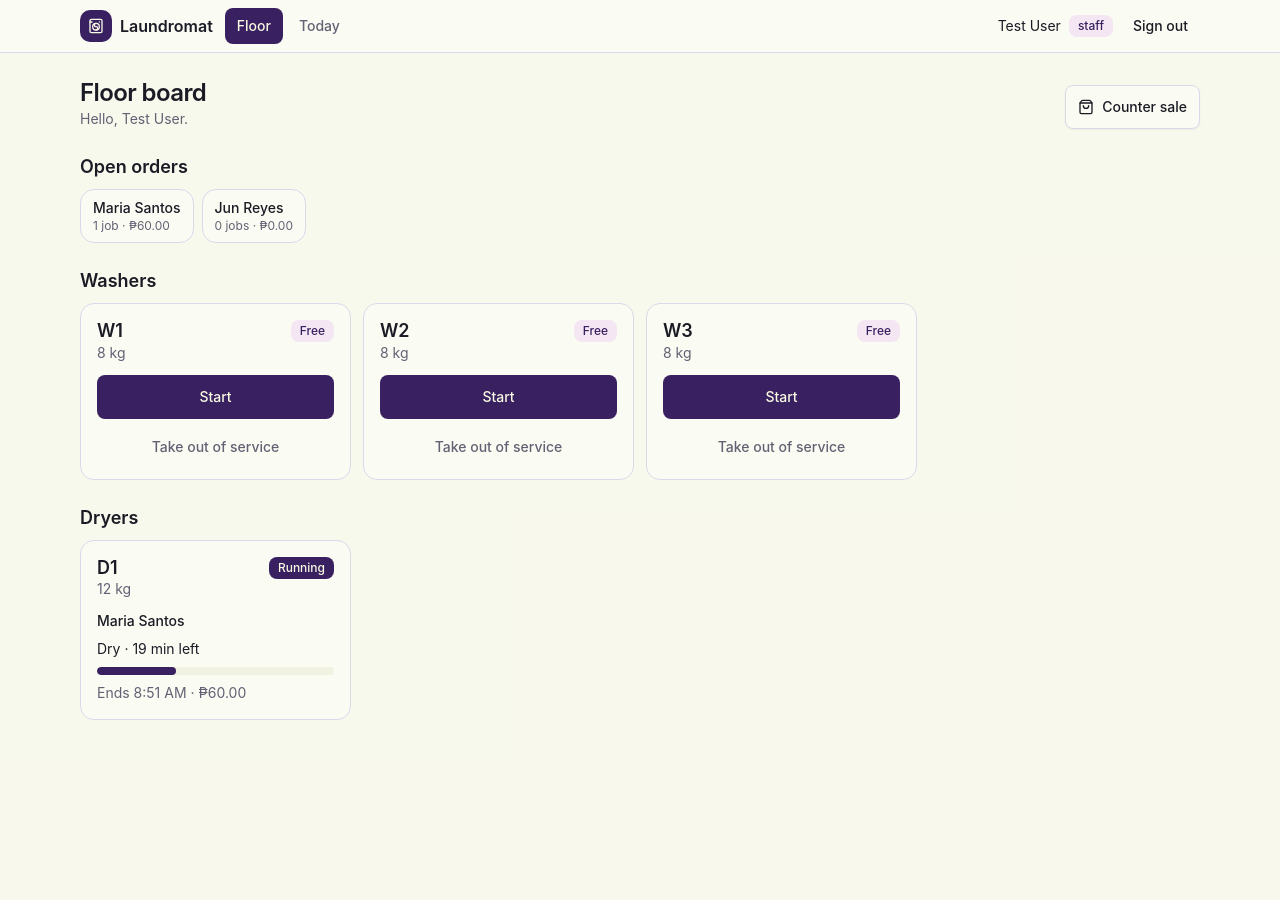
Test: Orders › offers no dryer shortcut on a dryer's own ticket
Click the button with aria-label "Open ticket on D1".
click(216, 657)  # box x1=97 y1=611 x2=334 y2=703
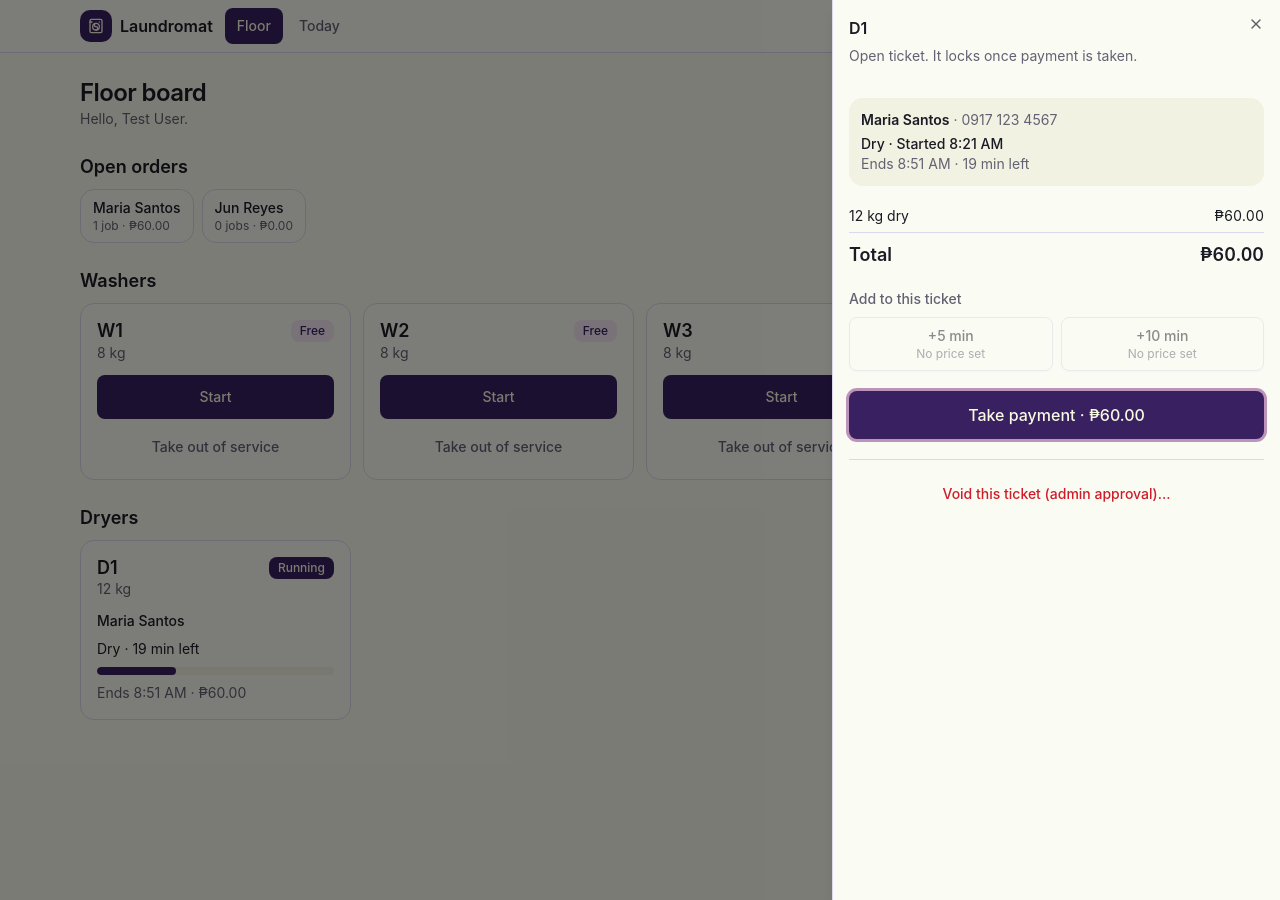
Expected: the button "Take payment · ₱60.00" is shown, x1=849 y1=391 x2=1264 y2=439
